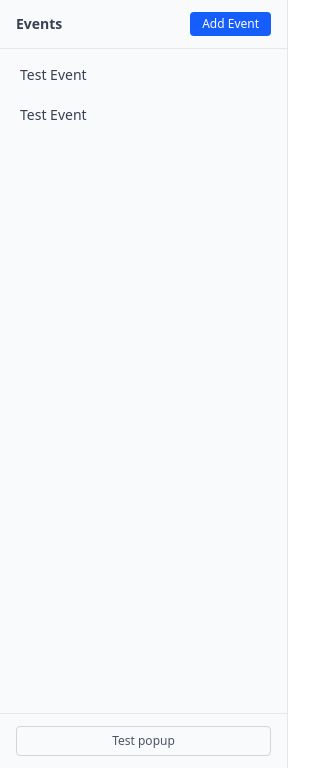
Test case: Sidebar › shows validation error when submitting with empty fields
The width and height of the screenshot is (320, 768).
Click the button "Add Event" at (231, 24), box [190,12,271,36]
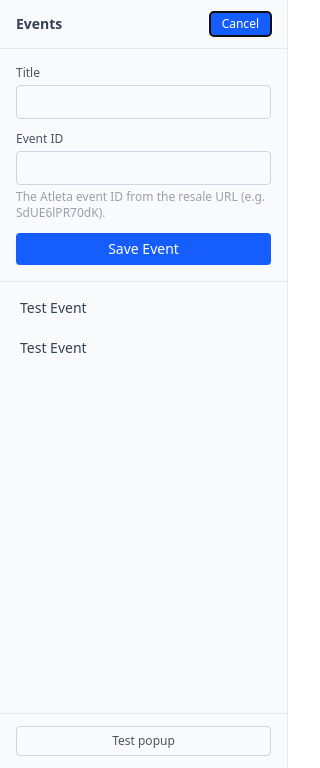
Click the button "Save Event" at (144, 249), box [16,233,271,265]
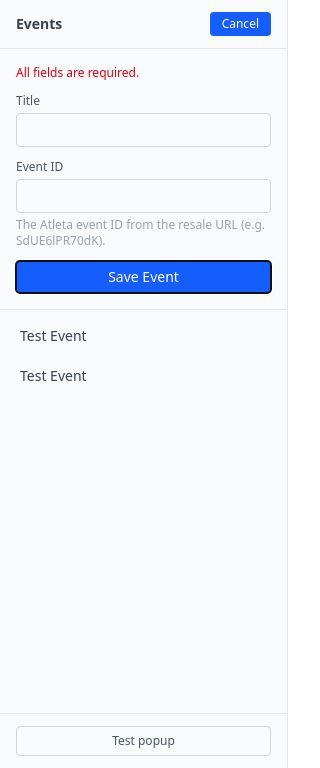
Check: the text "All fields are required." is shown, box [16,64,139,81]
